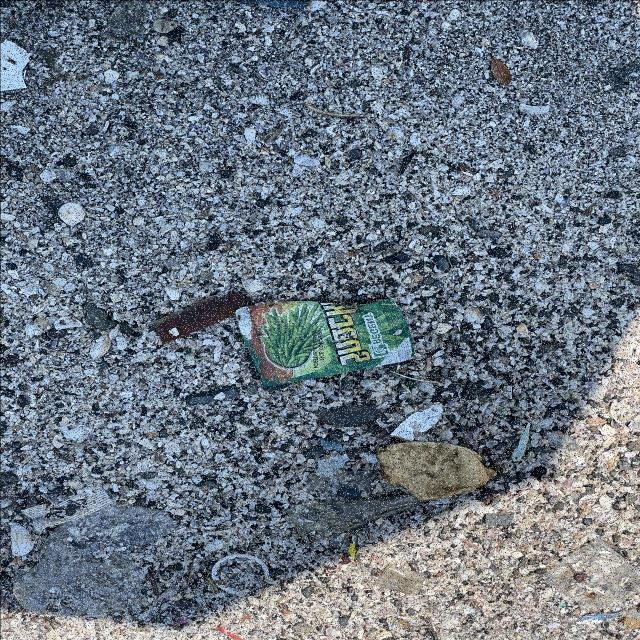plastic_waste: (236, 300, 416, 388)
